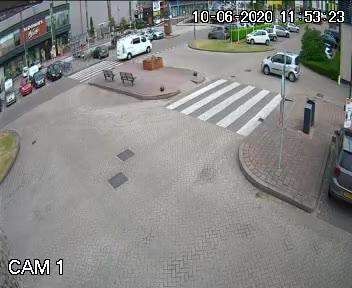car: (259, 48, 303, 82), (112, 32, 155, 63)
